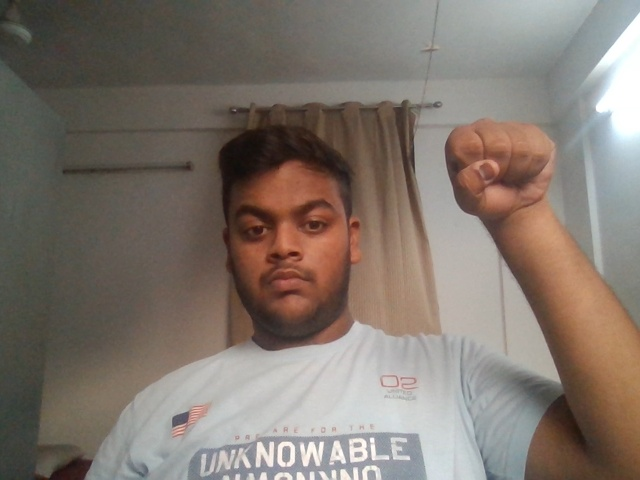Yes: (390, 84, 618, 277)
